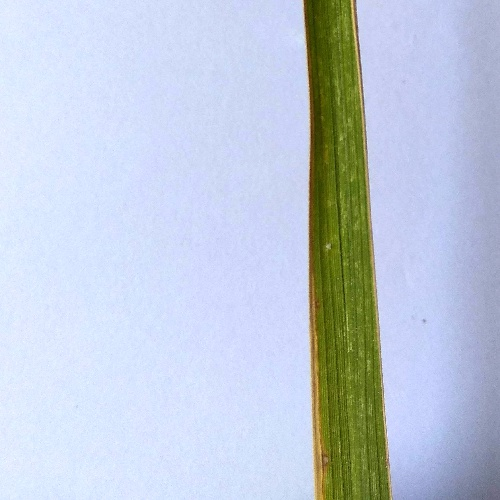Busuk Leher: (305, 236, 324, 431), (312, 437, 339, 476), (325, 230, 338, 256)
